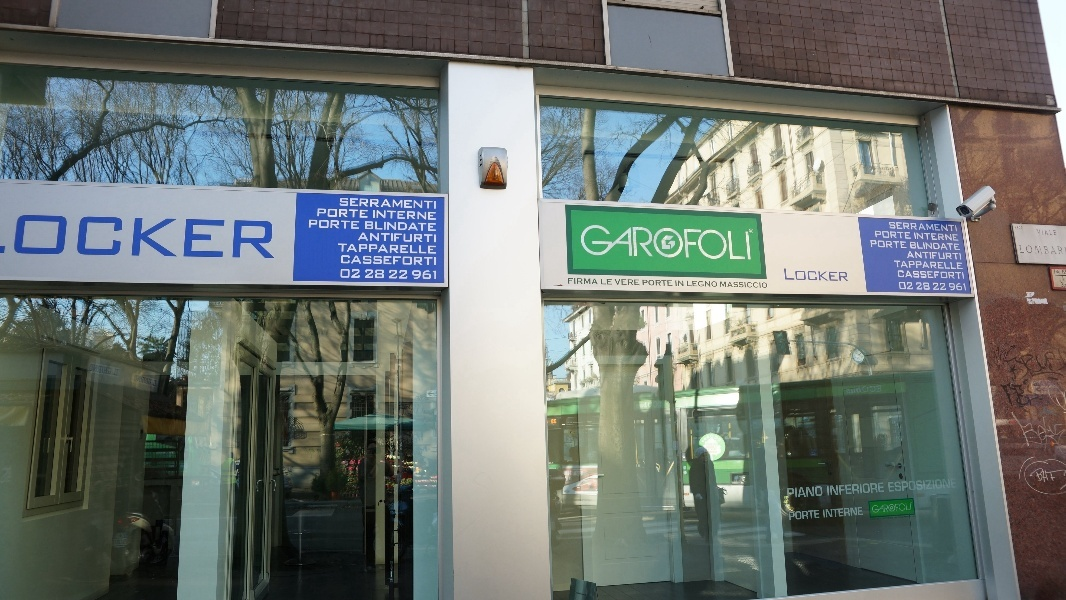text: (33, 213, 48, 261), (49, 213, 64, 261), (65, 213, 80, 261), (81, 213, 96, 261), (97, 213, 112, 261), (113, 213, 128, 261), (129, 213, 144, 261), (145, 213, 160, 261), (161, 213, 176, 261), (177, 213, 192, 261), (193, 213, 208, 261), (209, 213, 224, 261), (225, 213, 240, 261), (241, 213, 256, 261), (257, 213, 272, 261), (18, 213, 32, 261), (593, 224, 608, 262), (609, 224, 624, 262), (625, 224, 640, 262), (641, 224, 656, 262), (657, 224, 672, 262), (673, 224, 688, 262), (689, 224, 704, 262), (705, 224, 720, 262), (721, 224, 736, 262), (737, 224, 752, 262), (580, 224, 592, 262), (1041, 466, 1056, 484), (97, 363, 112, 378), (897, 478, 912, 493), (913, 478, 928, 493), (929, 478, 944, 493), (1028, 466, 1040, 484), (833, 482, 848, 496), (849, 482, 864, 496), (865, 482, 880, 496), (145, 373, 158, 388), (785, 269, 800, 282), (801, 269, 816, 282), (817, 269, 832, 282), (833, 269, 848, 282), (801, 486, 816, 499), (945, 478, 958, 493), (273, 213, 277, 261), (353, 198, 368, 210), (369, 198, 384, 210), (385, 198, 400, 210), (401, 198, 416, 210), (417, 198, 432, 210), (881, 502, 896, 514), (897, 502, 912, 514), (353, 208, 369, 219), (787, 486, 800, 499), (321, 208, 336, 219), (337, 208, 352, 219), (385, 210, 400, 221), (401, 210, 416, 221), (417, 210, 432, 221), (369, 221, 384, 232), (385, 221, 400, 232), (401, 221, 416, 232), (417, 221, 432, 232), (353, 243, 368, 254), (369, 243, 384, 254), (385, 243, 400, 254), (401, 243, 416, 254), (417, 243, 432, 254), (849, 384, 864, 395), (865, 384, 880, 395), (705, 443, 720, 454), (801, 510, 816, 521), (833, 507, 848, 518), (1057, 466, 1066, 484), (369, 270, 385, 280), (338, 243, 352, 254), (849, 507, 863, 518), (321, 220, 336, 230), (337, 220, 352, 230), (369, 233, 384, 243), (385, 233, 400, 243), (401, 233, 416, 243), (417, 233, 432, 243), (353, 256, 368, 266), (369, 256, 384, 266), (385, 256, 400, 266), (401, 256, 416, 266), (417, 256, 432, 266), (417, 270, 432, 280), (641, 399, 656, 409), (897, 222, 912, 232), (913, 222, 928, 232), (929, 222, 944, 232), (913, 251, 928, 261), (929, 251, 944, 261), (945, 251, 960, 261), (913, 270, 928, 280), (929, 270, 944, 280), (945, 270, 960, 280), (1025, 245, 1040, 255), (1041, 245, 1056, 255), (340, 198, 352, 210), (945, 242, 961, 251), (898, 270, 912, 280), (135, 373, 144, 388), (881, 231, 896, 240), (897, 231, 912, 240), (929, 233, 944, 242), (945, 233, 960, 242), (881, 240, 896, 249), (913, 242, 928, 251), (929, 242, 944, 251), (897, 261, 912, 270), (913, 261, 928, 270), (929, 261, 944, 270), (945, 261, 960, 270), (945, 222, 958, 232), (914, 233, 928, 242), (674, 441, 688, 450), (373, 210, 384, 221), (789, 510, 800, 521), (888, 478, 896, 493), (657, 280, 673, 287), (309, 220, 320, 230), (341, 256, 352, 266), (341, 269, 352, 279), (389, 270, 400, 280), (916, 282, 928, 291), (89, 363, 96, 378), (577, 278, 592, 285), (625, 279, 640, 286), (689, 281, 704, 288), (721, 282, 736, 289), (737, 282, 752, 289), (753, 282, 768, 289), (899, 282, 912, 290), (897, 240, 908, 249), (823, 507, 832, 518), (1041, 230, 1057, 236), (872, 502, 880, 514), (643, 280, 656, 287), (705, 281, 718, 288), (817, 486, 824, 499), (113, 363, 119, 378), (870, 240, 880, 249), (881, 515, 896, 521), (897, 515, 912, 521), (1, 247, 16, 253), (933, 283, 944, 291), (949, 283, 960, 291), (711, 434, 720, 443), (353, 269, 361, 279), (676, 281, 688, 287), (353, 220, 360, 230), (401, 270, 408, 280), (614, 279, 624, 286), (889, 222, 896, 232), (1057, 245, 1064, 255), (827, 482, 832, 496), (564, 471, 576, 476), (870, 515, 880, 521), (568, 278, 576, 285), (881, 482, 885, 496), (551, 419, 560, 425), (705, 435, 711, 444), (363, 233, 368, 243), (657, 399, 662, 409), (1019, 245, 1024, 255), (433, 198, 437, 210), (961, 283, 967, 291), (875, 231, 880, 240), (577, 492, 592, 495), (433, 210, 437, 221), (433, 221, 437, 232), (433, 243, 437, 254), (817, 510, 821, 521), (593, 278, 599, 285), (601, 279, 608, 285), (433, 256, 437, 266), (412, 270, 416, 280), (433, 270, 437, 280), (961, 270, 965, 280), (1015, 226, 1024, 230), (365, 221, 368, 232), (433, 233, 436, 243), (637, 399, 640, 409), (909, 251, 912, 261), (577, 471, 583, 476), (961, 261, 964, 270), (701, 435, 704, 444), (1061, 282, 1066, 287), (609, 279, 613, 285), (1036, 230, 1040, 236), (318, 208, 320, 219), (846, 384, 848, 395), (881, 384, 883, 395), (366, 270, 368, 280), (961, 251, 963, 261), (1062, 270, 1066, 275), (910, 242, 912, 251), (894, 261, 896, 270), (929, 282, 931, 291), (913, 515, 916, 521), (945, 283, 947, 291), (849, 269, 850, 282), (593, 492, 597, 495), (721, 434, 722, 443), (913, 282, 914, 290), (687, 281, 688, 288), (750, 230, 752, 233), (1055, 269, 1056, 275)
